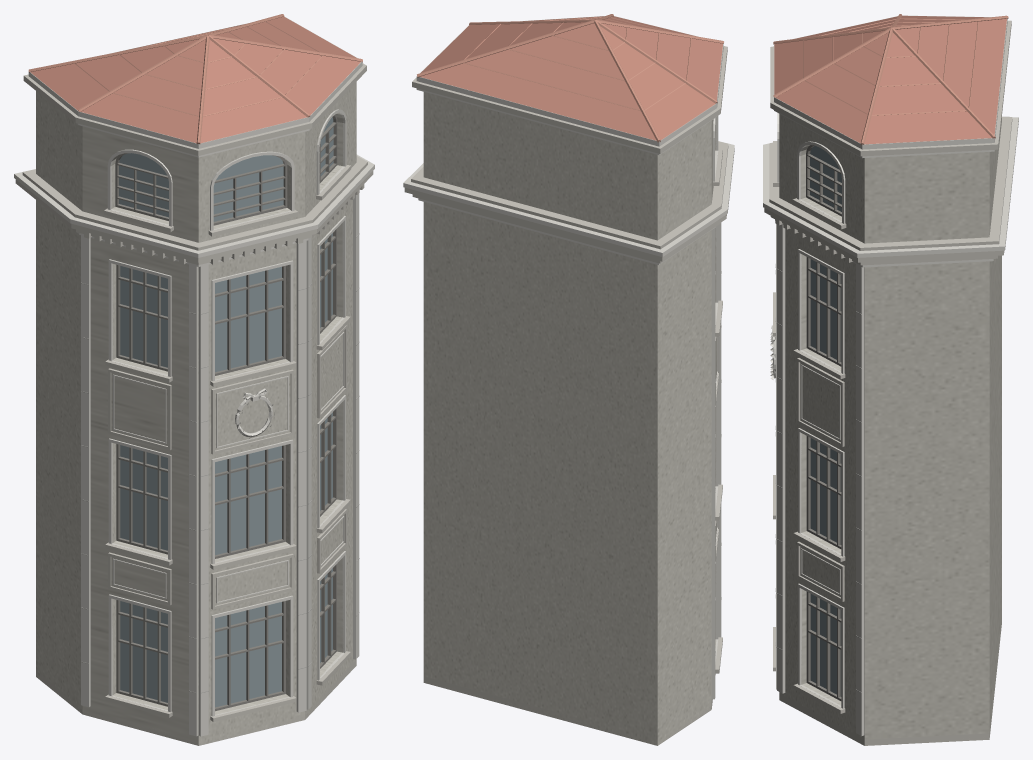
The model's file is jingan-ji-garden-residence-south-bay-lod.glb.
3 views of the same model, side by side, from view 1: azimuth 30°, elevation 25°; view 2: azimuth 150°, elevation 25°; view 3: azimuth 270°, elevation 25° (orthographic).
Parts seen in each view (by area): view 1: 纪氏花园住宅临街折角窗塔; view 2: 纪氏花园住宅临街折角窗塔; view 3: 纪氏花园住宅临街折角窗塔.
Boxes of the visible parts, box(x1,y1,x2,y2) form: 纪氏花园住宅临街折角窗塔: box(14, 14, 374, 745); 纪氏花园住宅临街折角窗塔: box(403, 14, 734, 745); 纪氏花园住宅临街折角窗塔: box(763, 14, 1018, 745).
Bounding box in the file's own units: 7.92 × 17.4 × 6.18.
Materials: 8 (1 with a texture image).
